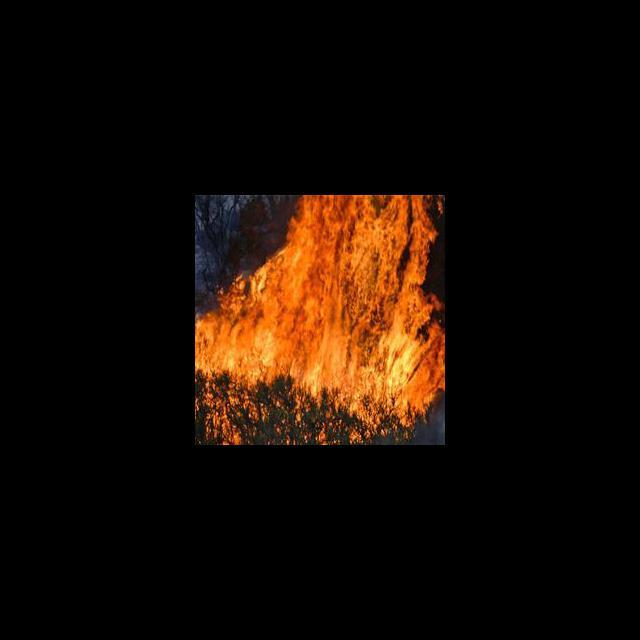Fire: (195, 195, 444, 441)
